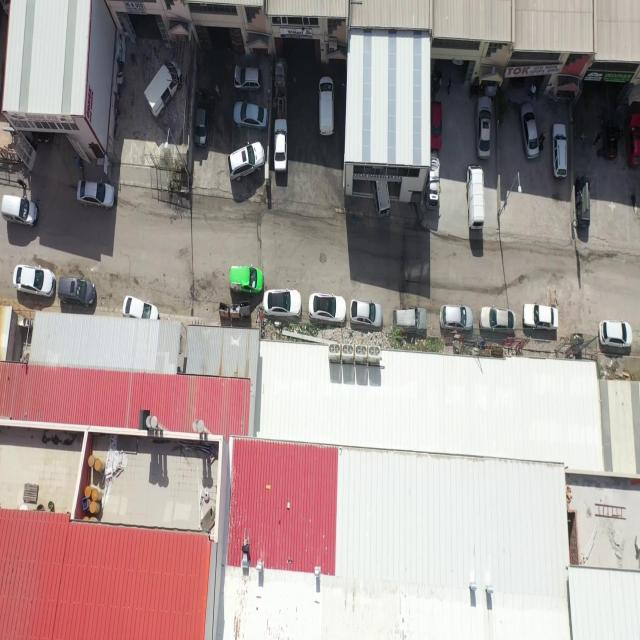p3rson: (225, 64, 230, 96), (592, 130, 602, 146), (528, 83, 536, 102), (538, 130, 548, 144), (16, 179, 27, 191), (74, 156, 83, 169), (617, 128, 625, 141), (215, 84, 221, 100), (436, 70, 442, 86), (447, 78, 452, 96), (596, 148, 606, 157), (210, 95, 215, 112), (228, 63, 232, 73), (539, 142, 543, 150)
